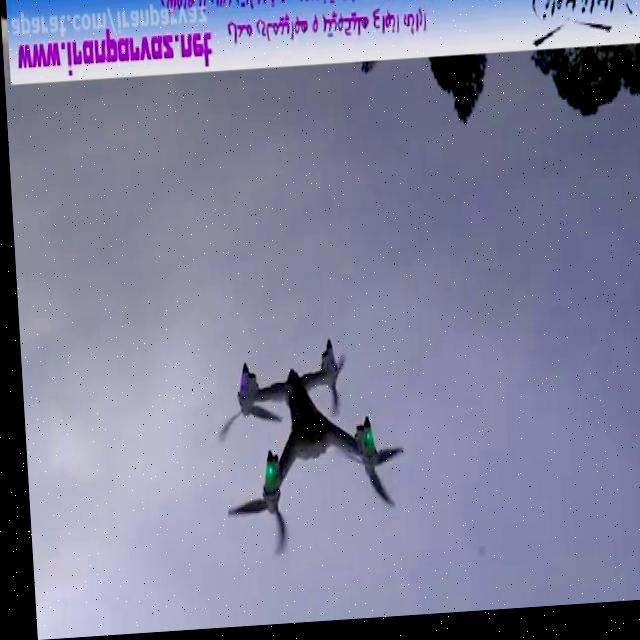drone: (203, 338, 404, 569)
